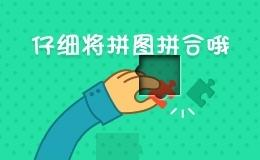target: (118, 35, 160, 75)
